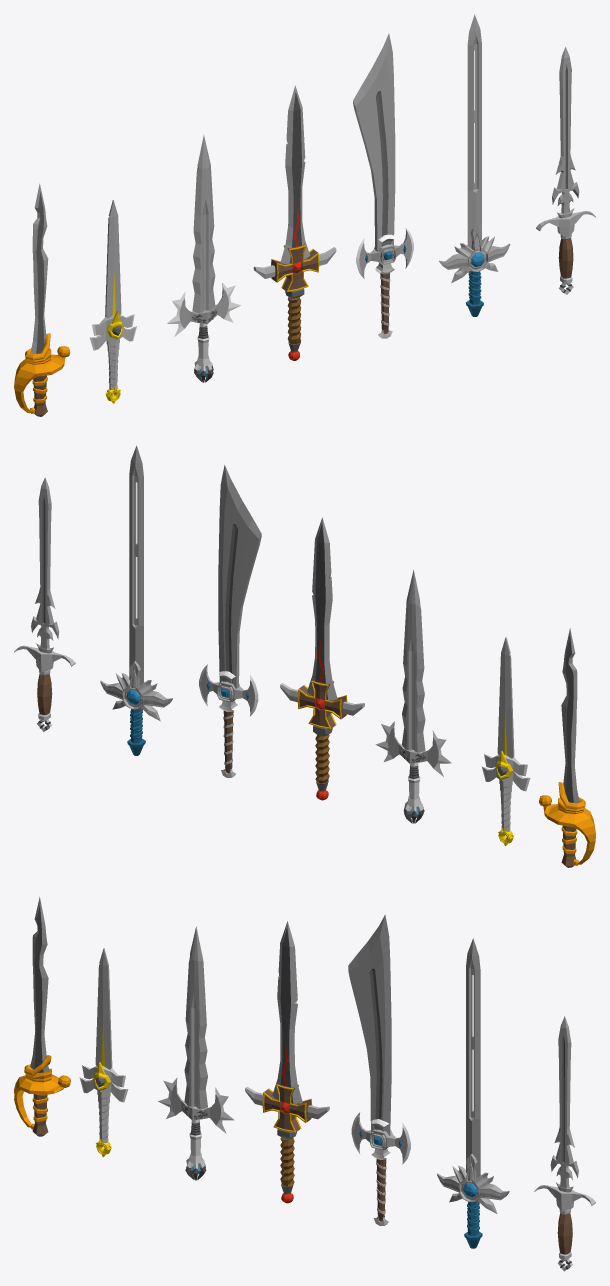
3 views of the same model, one above another, from view 1: azimuth 30°, elevation 25°; view 2: azimuth 150°, elevation 25°; view 3: azimuth 330°, elevation 25° (orthographic). The views are drawn at different scales.
Visible parts, largest first — view 1: PP_Sword_0222, PP_Sword_1039, PP_Sword_0080, PP_Sword_0036, PP_Sword_0177, PP_Sword_0363, PP_Sword_0018; view 2: PP_Sword_0222, PP_Sword_0080, PP_Sword_1039, PP_Sword_0036, PP_Sword_0177, PP_Sword_0363, PP_Sword_0018; view 3: PP_Sword_0222, PP_Sword_0080, PP_Sword_1039, PP_Sword_0036, PP_Sword_0177, PP_Sword_0363, PP_Sword_0018.
Boxes of the visible parts, <box> form: PP_Sword_0222: <box>353,33,413,338</box>; PP_Sword_1039: <box>439,14,510,316</box>; PP_Sword_0080: <box>253,85,336,360</box>; PP_Sword_0036: <box>167,135,240,382</box>; PP_Sword_0177: <box>14,183,70,416</box>; PP_Sword_0363: <box>536,47,595,294</box>; PP_Sword_0018: <box>89,200,136,403</box>; PP_Sword_0222: <box>199,465,261,777</box>; PP_Sword_0080: <box>280,517,364,800</box>; PP_Sword_1039: <box>100,445,172,755</box>; PP_Sword_0036: <box>375,570,451,823</box>; PP_Sword_0177: <box>539,628,595,867</box>; PP_Sword_0363: <box>14,477,75,731</box>; PP_Sword_0018: <box>481,637,530,845</box>; PP_Sword_0222: <box>348,914,410,1225</box>; PP_Sword_0080: <box>245,921,329,1203</box>; PP_Sword_1039: <box>437,938,509,1248</box>; PP_Sword_0036: <box>158,926,234,1180</box>; PP_Sword_0177: <box>14,896,70,1136</box>; PP_Sword_0363: <box>534,1016,595,1271</box>; PP_Sword_0018: <box>79,948,128,1156</box>.
Bounding box in the file's own units: 317 × 161 × 21.22.
Materials: 1 (1 with a texture image).
